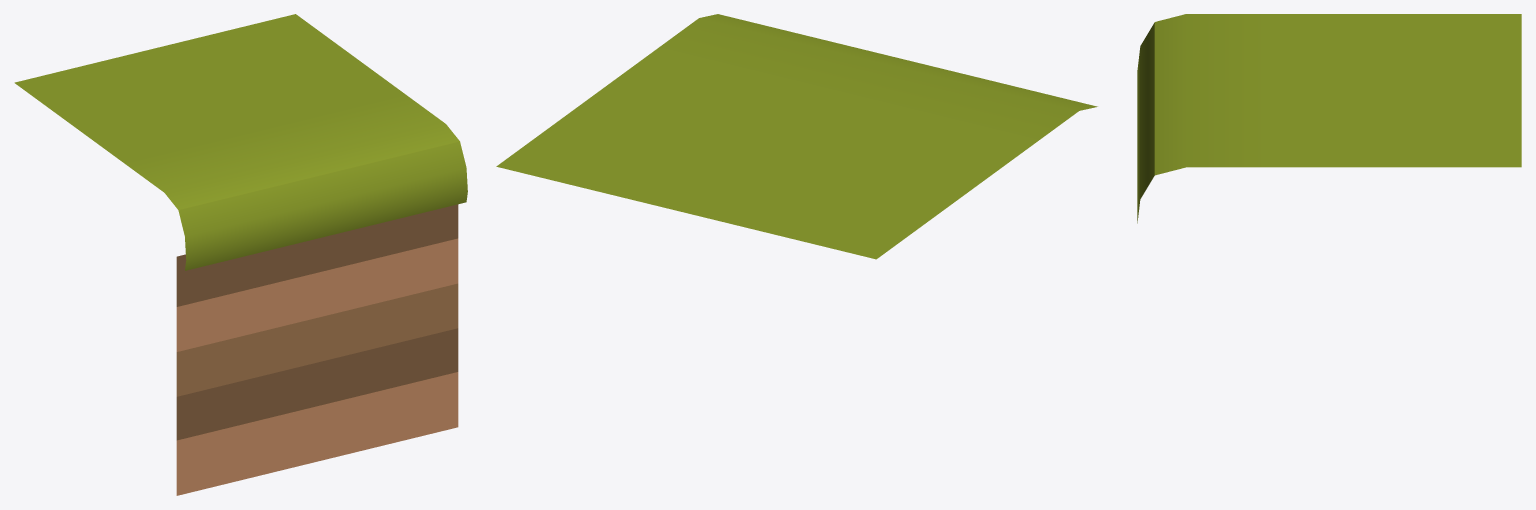
File: Cube_Grass_Side_Tall.glb
3 renders of one model, left to right at view 1: azimuth 30°, elevation 25°; view 2: azimuth 150°, elevation 25°; view 3: azimuth 270°, elevation 25°, orthographic. The views are drawn at different scales.
Visible parts, largest first — view 1: Cube_Grass_Side_Tall; view 2: Cube_Grass_Side_Tall; view 3: Cube_Grass_Side_Tall.
Part boxes in pixels (x1=…): Cube_Grass_Side_Tall: x1=14, y1=14, x2=467, y2=495; Cube_Grass_Side_Tall: x1=496, y1=14, x2=1097, y2=259; Cube_Grass_Side_Tall: x1=1137, y1=14, x2=1521, y2=223.
Bounding box in the file's own units: 2 × 2 × 2.12.
